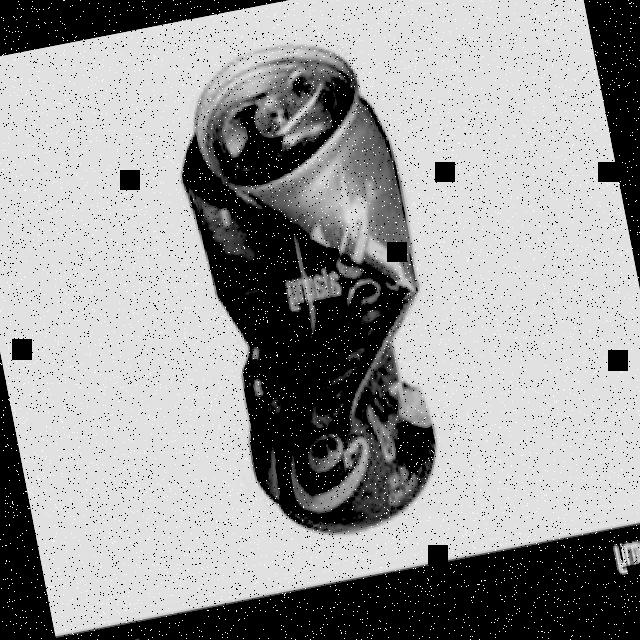can: (144, 19, 474, 556)
